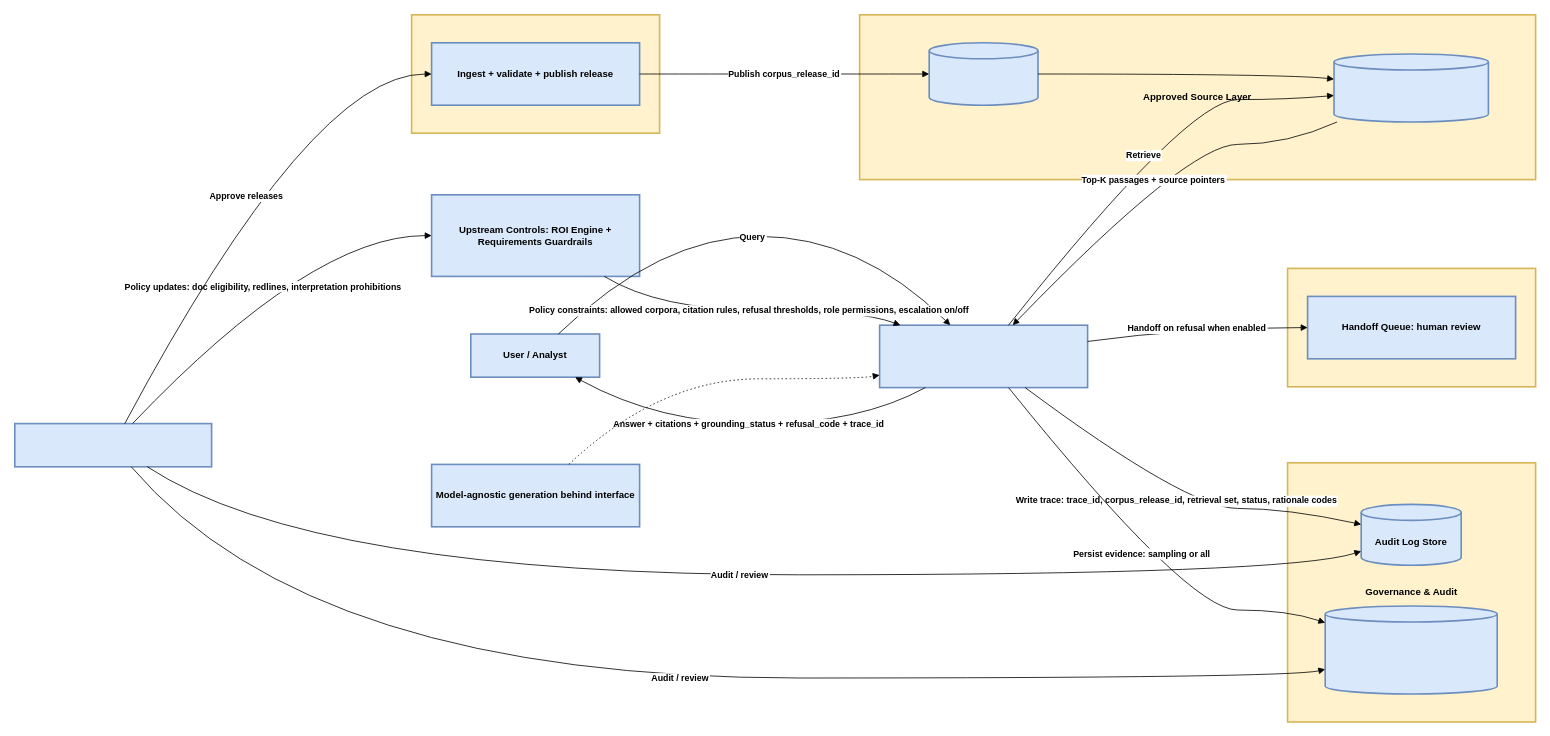
Some shapes in this 1550 by 736 pixel diagram are drawn without their labels. Here are the shapes that lost their labels. From the top down, the centre of each, then its label:
At (983,74): "Approved Corpus".
At (1411,87): "Index: vector and lexical".
At (983,356): "Compliance Retrieval Assistant".
At (113,444): "Compliance / Legal / Risk".
At (1411,649): "Evidence Package: query + retrieval + output".
